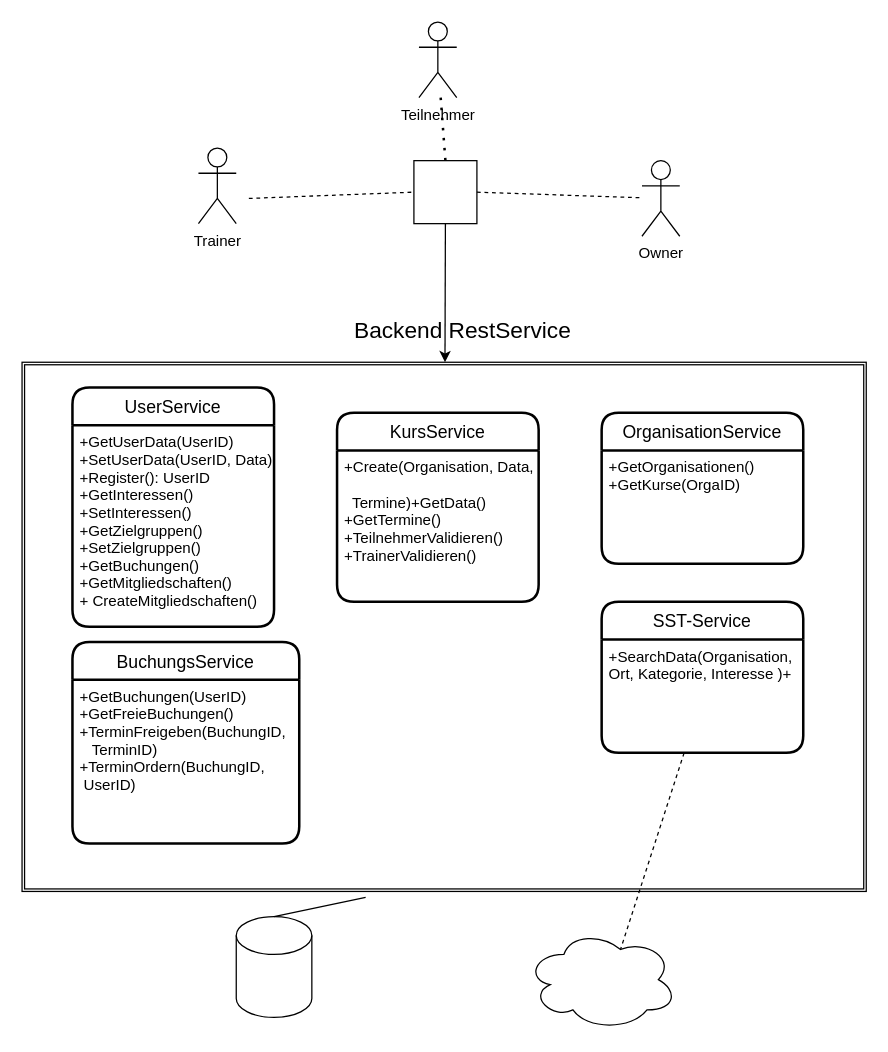
Some shapes in this 888 by 1052 pixel diagram are drawn without their labels. Here are the shapes that lost their labels. From the top down, the centre of each, then its label:
At point (445, 191): "APP".
At point (273, 966): "MySQL-DB".
At point (601, 979): "VHS/HS-SST".
